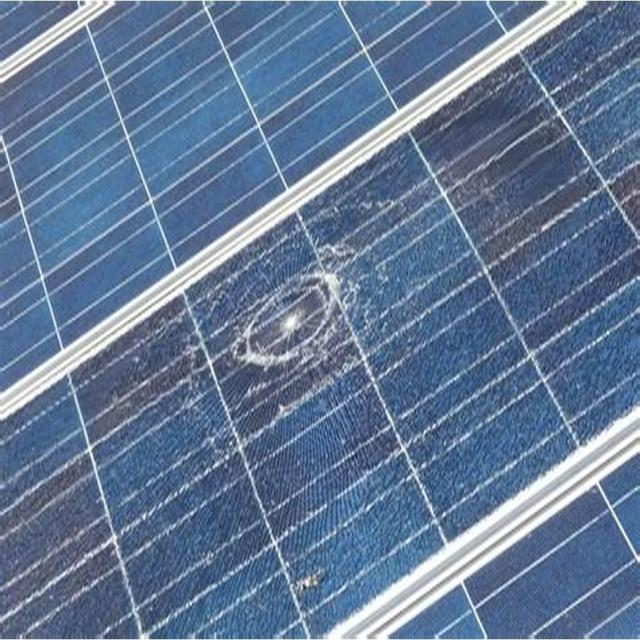cracked: (6, 22, 640, 636)
